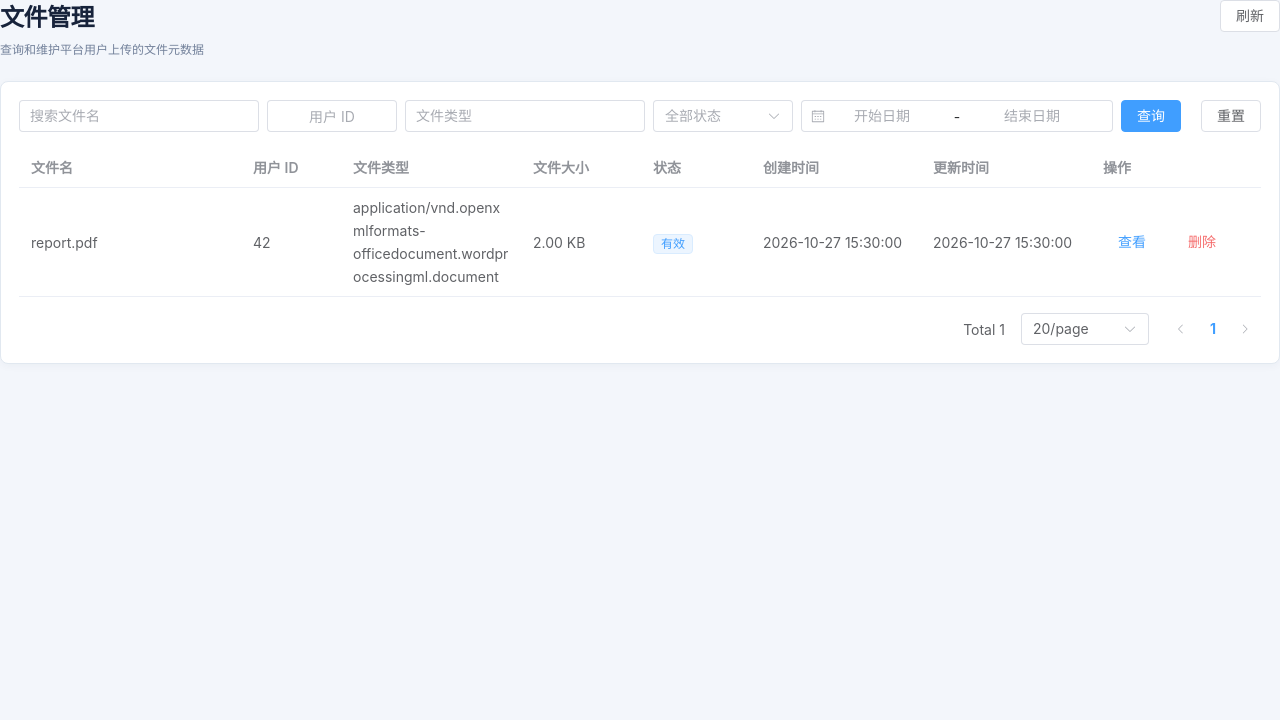
Test: FileManagementView › shows an open link for unsupported document previews
Click the button with test id "file-preview-9": (1132, 242) [1103, 226, 1161, 258]
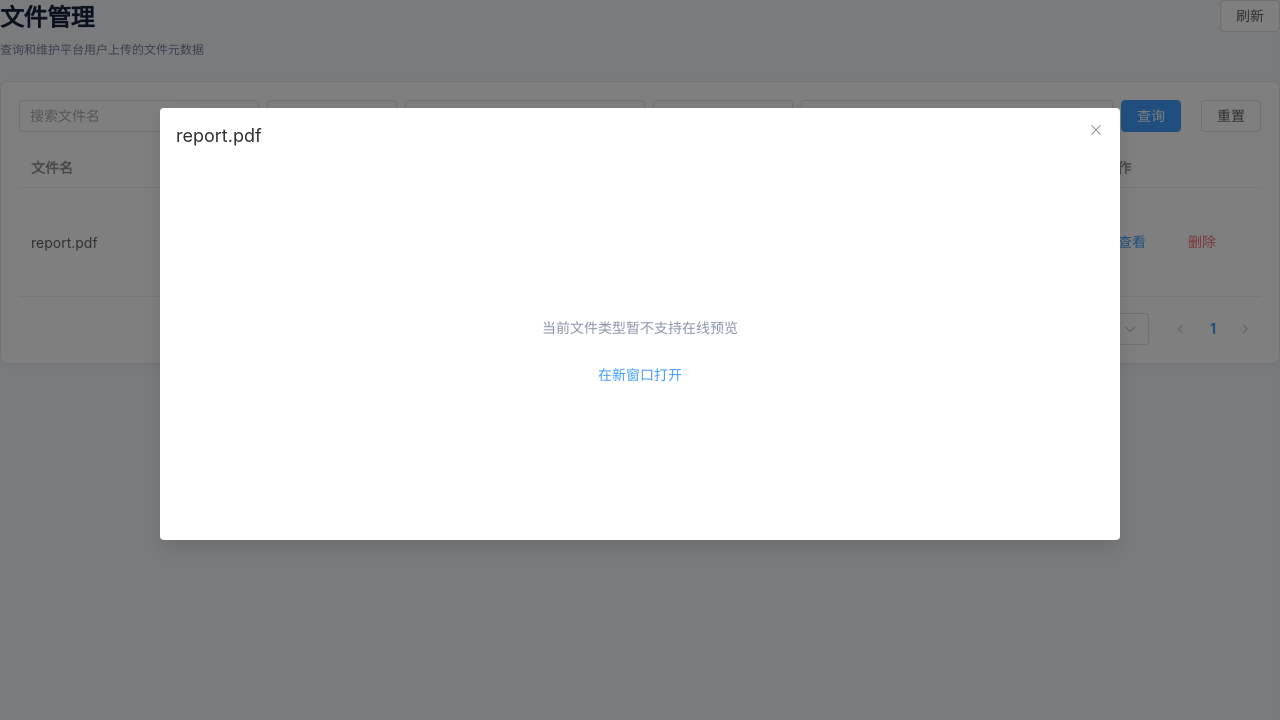
Now the text "暂不支持在线预览" is shown, box [542, 319, 738, 336]
Now the link to "https://download.example/report.docx" is shown, box [598, 364, 682, 385]
